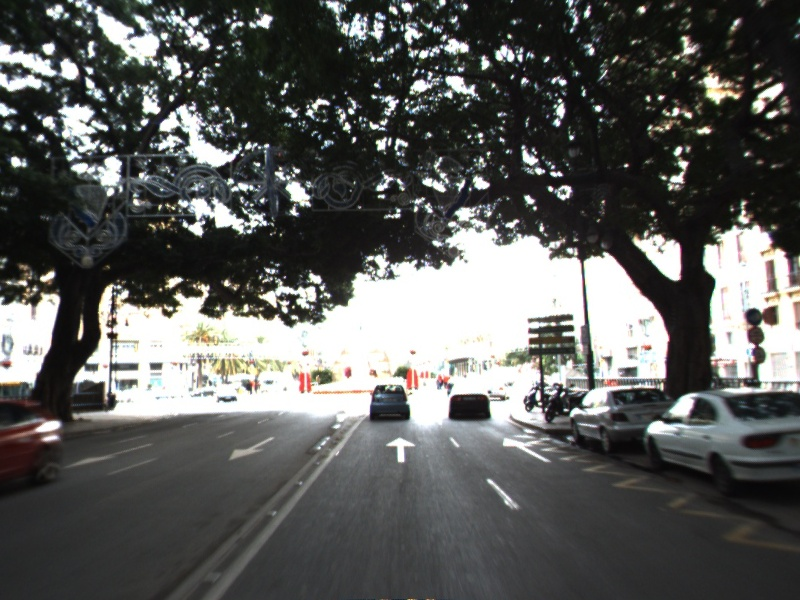STRAIGHT: (500, 435, 554, 464), (384, 435, 418, 464)
